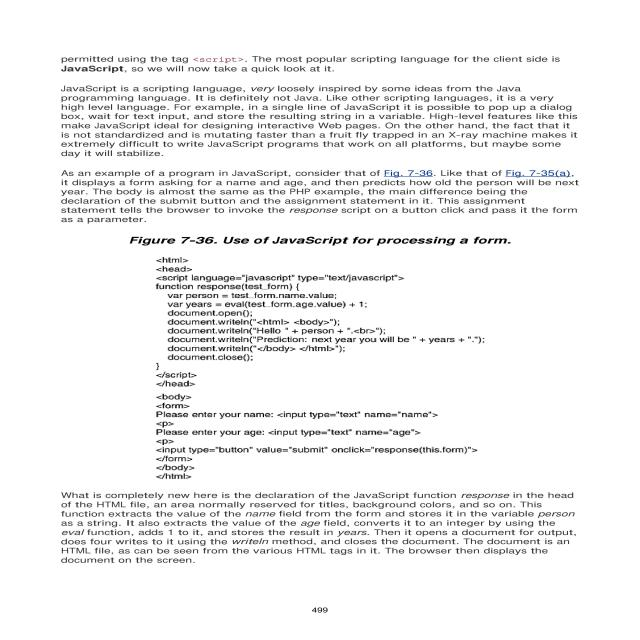diagram: (121, 219, 553, 481)
